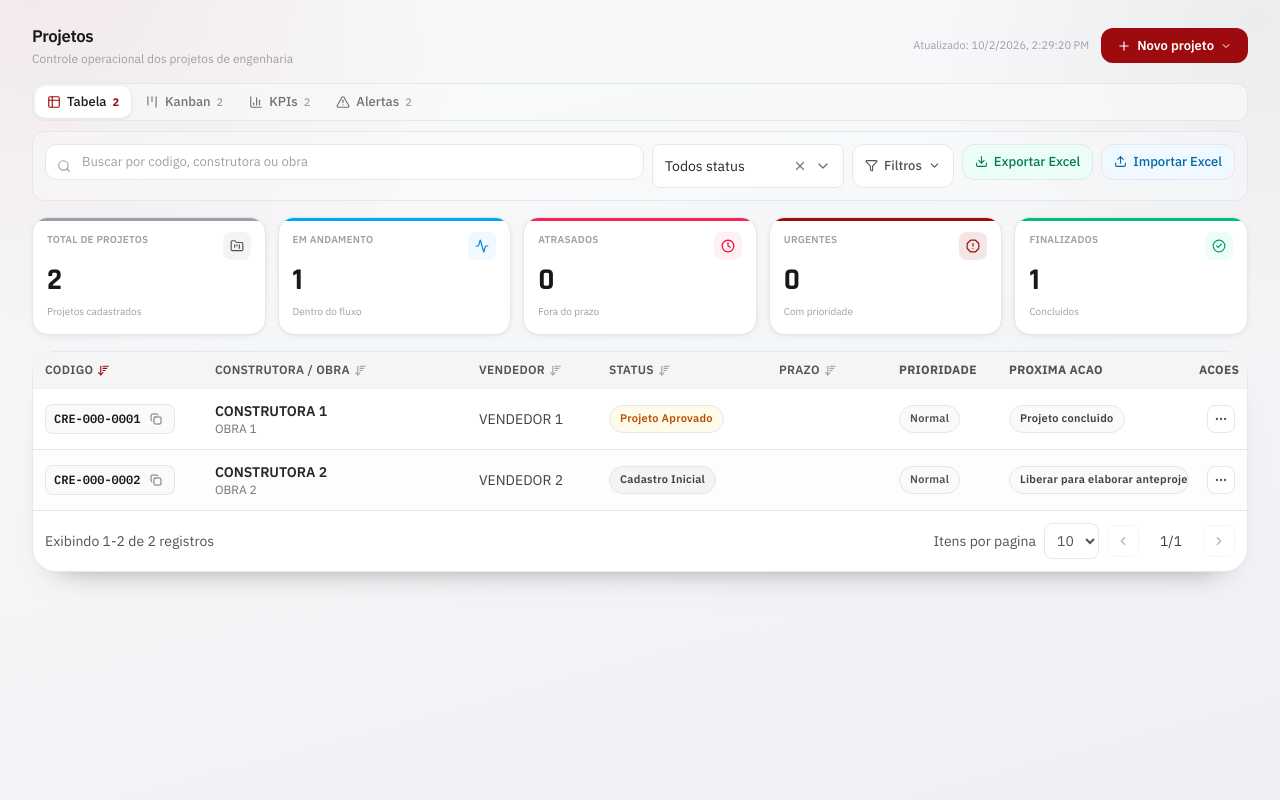
Test: ADMIN — ação visível › em 1280px: 'Regredir status' no menu ⋯
Click the button named "Abrir acoes do projeto" in the row of "CRE-000-0001": (1221, 419) 1207,405 -> 1235,433
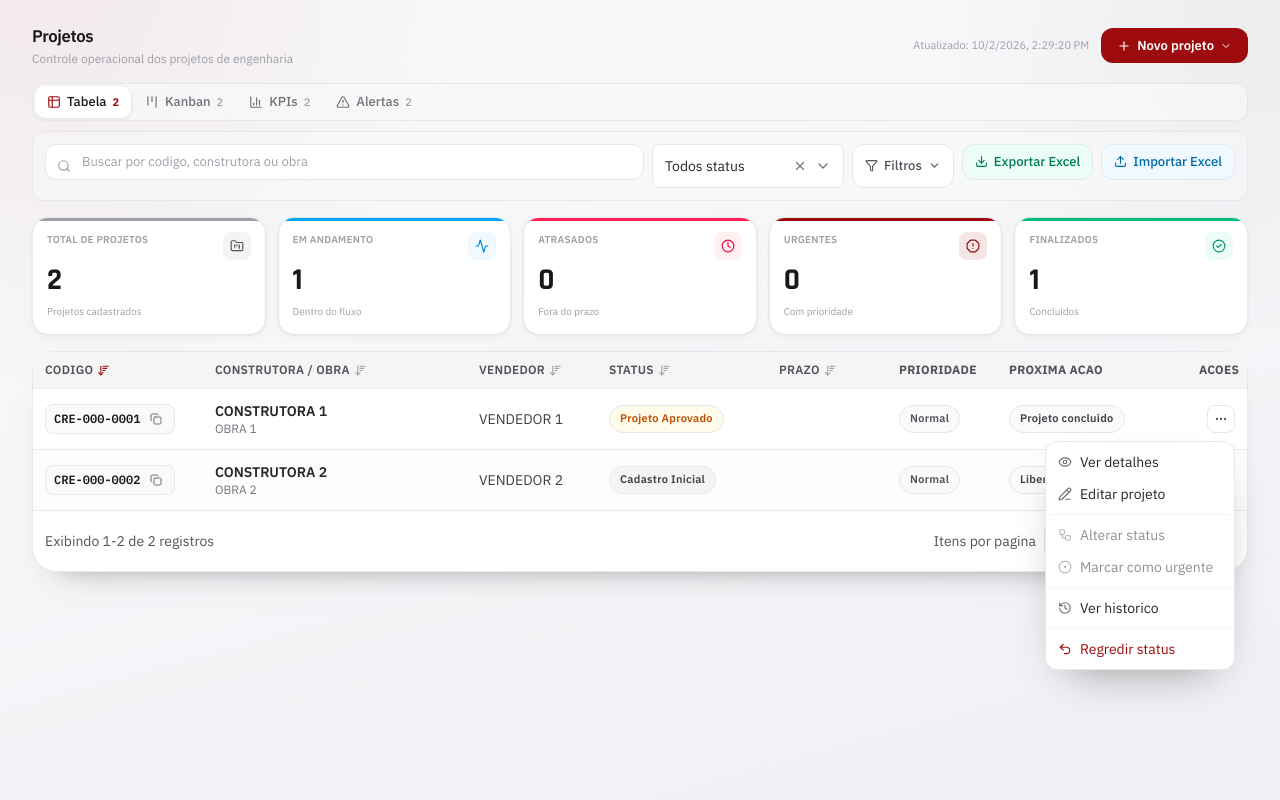
Expected: the menu item "Ver detalhes" is shown, 1058,453 -> 1159,471
